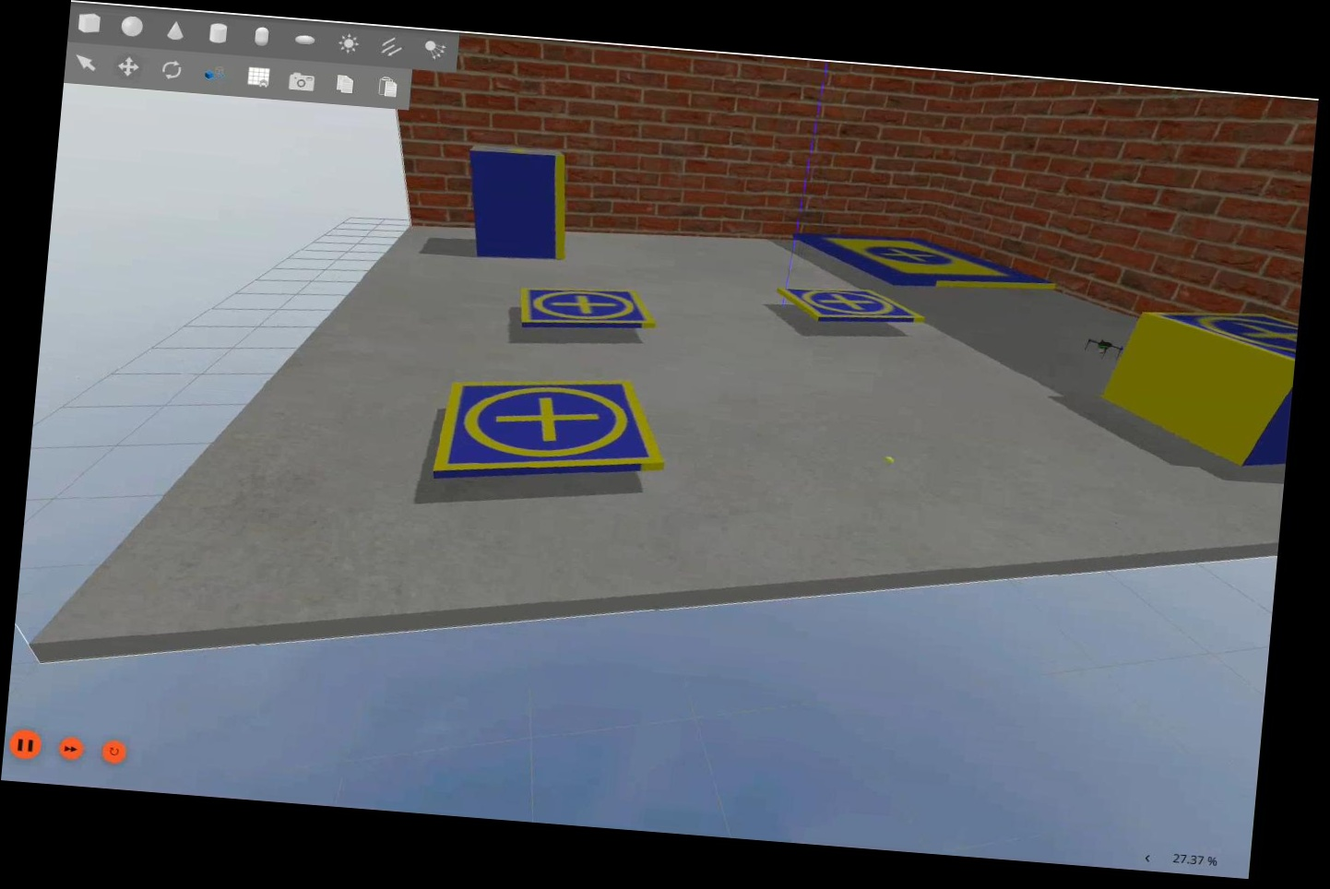large_base: (788, 227, 1063, 299)
small_base: (433, 368, 671, 501), (1136, 301, 1303, 367), (516, 280, 660, 336), (769, 282, 925, 332)
